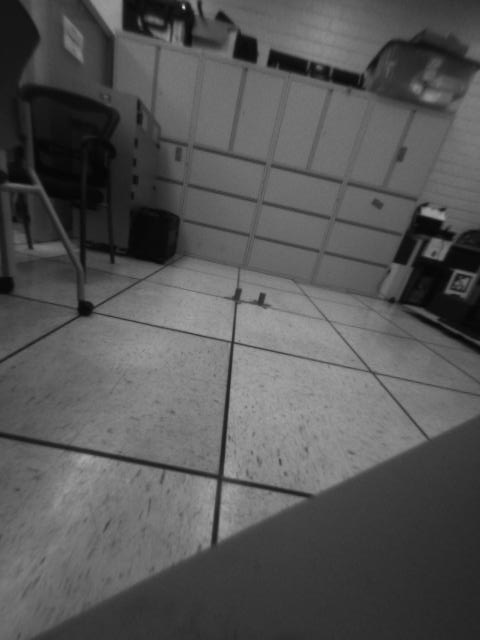X: (225, 286, 250, 306), (248, 291, 271, 309)
